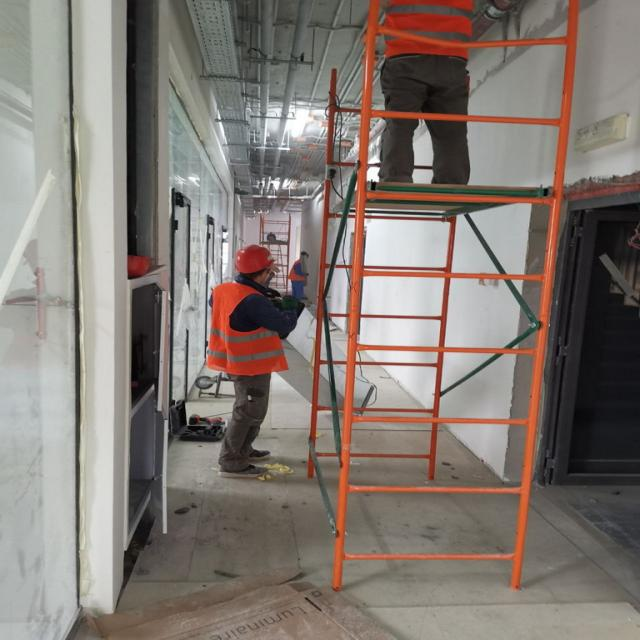Helmet: (235, 246, 276, 277), (129, 256, 155, 280)
Jacket: (212, 279, 273, 371), (291, 259, 308, 283)
